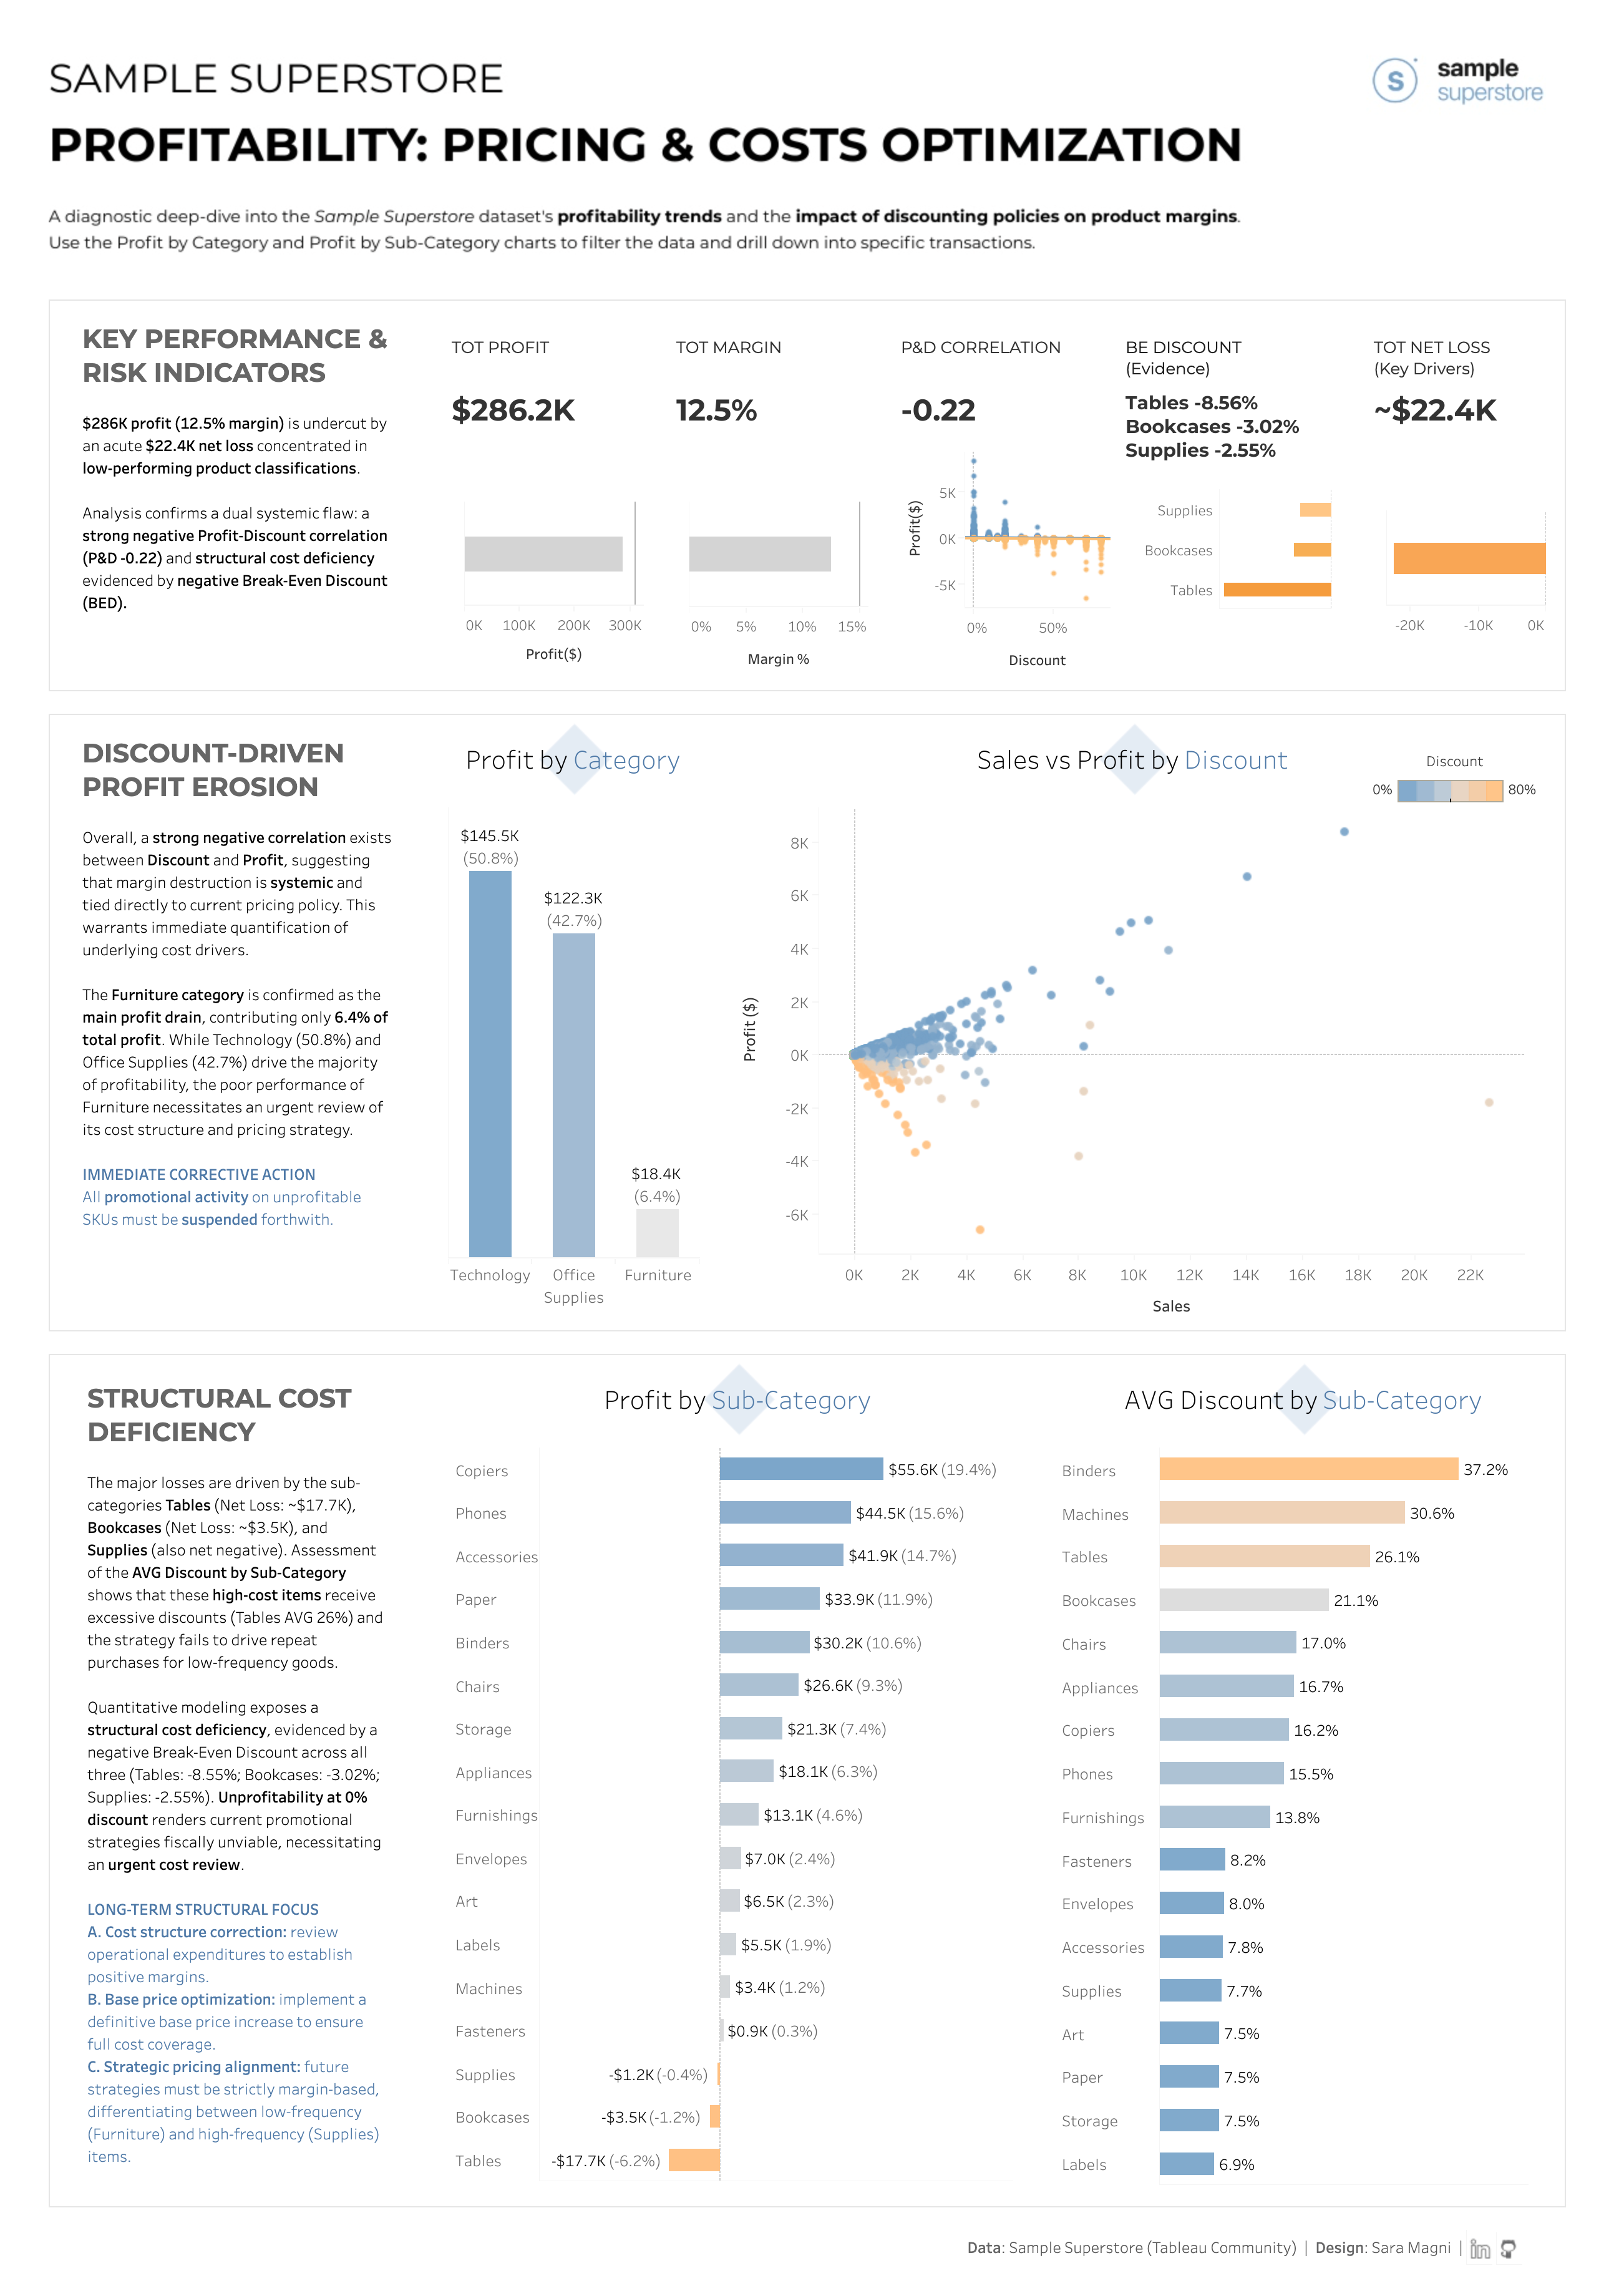

What the dashboard file says about the page in this screenshot:
{"tool":"tableau","page":{"name":"Dashboard","canvas":[1300,1850],"ordinal":0},"visuals":[{"type":"image","param":"Image/Main Header.png","box":[46,14,1208,204]},{"type":"blank","box":[46,218,1208,28]},{"type":"blank","box":[334,247,14,312]},{"type":"worksheet","title":"KPI: Total Profit","mark":"Automatic","box":[348,247,181,123]},{"type":"worksheet","title":"KPI: Total Margin","mark":"Automatic","box":[529,247,181,143.4]},{"type":"worksheet","title":"Profit vs Discount Correlation ","mark":"Automatic","box":[710,247,181,117]},{"type":"worksheet","title":"KPI: BE Evidence.","mark":"Automatic","box":[891,247,181,136]},{"type":"worksheet","title":"KPI: Total Net Loss","mark":"Automatic","box":[1072,247,181,149]},{"type":"text","box":[59,250,263,306]},{"type":"worksheet","title":"Profit vs Discount Correlation_Scatterplot","mark":"Circle","rows":["Profit"],"cols":["Discount"],"box":[710,364,181,195]},{"type":"worksheet","title":"KPI: Total Profit_Bullet Chart","mark":"Automatic","cols":["Profit"],"box":[348,390.1,181,168.9]},{"type":"worksheet","title":"KPI: Total Margin_Bullet Chart","mark":"Automatic","cols":["Calculation_5528168555541131264"],"box":[529,390.4,181,168.6]},{"type":"worksheet","title":"KPI: BE Evidence_Bar Chart","mark":"Bar","rows":["Sub-Category"],"cols":["Calculation_5729071320477540352"],"box":[891,395.6,181,95]},{"type":"worksheet","title":"KPI: Total Net Loss_Bar Chart","mark":"Bar","cols":["Calculation_1920644514421669888"],"box":[1072,396,181,145]},{"type":"blank","box":[46,560,1208,18]},{"type":"blank","box":[334,579,15,493]},{"type":"worksheet","title":"Header 1","mark":"Shape","rows":["Calculation_292522879398965249"],"box":[349,579,210,70]},{"type":"blank","box":[559,579,15,493]},{"type":"worksheet","title":"Header 3","mark":"Shape","rows":["Calculation_292522879398965249"],"box":[574,579,663,70]},{"type":"text","box":[59,582,263,487]},{"type":"legend","title":"Sales vs. Profit by Discount","param":"[federated.0rlbhmi186pqmv11zu80w1tev8dc].[sum:Discount:qk]","box":[1099,604,140,42]},{"type":"worksheet","title":"Profit by Category","mark":"Automatic","rows":["Profit"],"cols":["Category"],"box":[349,649,210,423]},{"type":"worksheet","title":"Sales vs. Profit by Discount","mark":"Circle","rows":["Profit"],"cols":["Sales"],"box":[574,649,663,423]},{"type":"blank","box":[46,1073,1208,18]},{"type":"blank","box":[334,1092,15,682]},{"type":"worksheet","title":"Header 2","mark":"Shape","rows":["Calculation_292522879398965249"],"box":[349,1092,474,70]},{"type":"blank","box":[823,1092,15,682]},{"type":"worksheet","title":"Header 4","mark":"Shape","rows":["Calculation_292522879398965249"],"box":[838,1092,411,70]},{"type":"text","box":[63,1099,255,668]},{"type":"worksheet","title":"Profit by Sub-Category","mark":"Automatic","rows":["Sub-Category"],"cols":["Profit"],"box":[349,1162,474,612]},{"type":"worksheet","title":"AVG Discount by Sub-Category","mark":"Automatic","rows":["Sub-Category"],"cols":["Discount"],"box":[838,1162,411,612]},{"type":"blank","box":[46,1775,1208,18]},{"type":"text","box":[56,1793,1124,28]},{"type":"worksheet","title":"LinkedIn","mark":"Shape","rows":["Calculation_3458483051382304770"],"cols":["Calculation_3458483051382390788"],"box":[1180,1793,26,28]},{"type":"worksheet","title":"GitHub","mark":"Shape","rows":["Calculation_3458483051382304770"],"cols":["Calculation_3458483051382390788"],"box":[1206,1793,24,28]}]}

Visuals, with their boxes in screenshot pixels (x1, y1, x2, y2), scaled from the page's 1300x1850 canvas onto the 1614x2296 screenshot:
image: [x1=57, y1=17, x2=1557, y2=271]
blank: [x1=57, y1=271, x2=1557, y2=305]
blank: [x1=415, y1=306, x2=432, y2=694]
"KPI: Total Profit" worksheet: [x1=432, y1=306, x2=657, y2=459]
"KPI: Total Margin" worksheet: [x1=657, y1=306, x2=882, y2=485]
"Profit vs Discount Correlation " worksheet: [x1=882, y1=306, x2=1106, y2=452]
"KPI: BE Evidence." worksheet: [x1=1106, y1=306, x2=1331, y2=475]
"KPI: Total Net Loss" worksheet: [x1=1331, y1=306, x2=1555, y2=492]
text: [x1=73, y1=310, x2=400, y2=690]
"Profit vs Discount Correlation_Scatterplot" worksheet (Circle marks): [x1=882, y1=452, x2=1106, y2=694]
"KPI: Total Profit_Bullet Chart" worksheet: [x1=432, y1=484, x2=657, y2=694]
"KPI: Total Margin_Bullet Chart" worksheet: [x1=657, y1=485, x2=882, y2=694]
"KPI: BE Evidence_Bar Chart" worksheet (Bar marks): [x1=1106, y1=491, x2=1331, y2=609]
"KPI: Total Net Loss_Bar Chart" worksheet (Bar marks): [x1=1331, y1=492, x2=1555, y2=671]
blank: [x1=57, y1=695, x2=1557, y2=717]
blank: [x1=415, y1=719, x2=434, y2=1330]
"Header 1" worksheet (Shape marks): [x1=434, y1=719, x2=694, y2=805]
blank: [x1=694, y1=719, x2=712, y2=1330]
"Header 3" worksheet (Shape marks): [x1=712, y1=719, x2=1536, y2=805]
text: [x1=73, y1=722, x2=400, y2=1326]
"Sales vs. Profit by Discount" legend: [x1=1364, y1=749, x2=1539, y2=802]
"Profit by Category" worksheet: [x1=434, y1=805, x2=694, y2=1330]
"Sales vs. Profit by Discount" worksheet (Circle marks): [x1=712, y1=805, x2=1536, y2=1330]
blank: [x1=57, y1=1331, x2=1557, y2=1354]
blank: [x1=415, y1=1355, x2=434, y2=2202]
"Header 2" worksheet (Shape marks): [x1=434, y1=1355, x2=1022, y2=1442]
blank: [x1=1022, y1=1355, x2=1041, y2=2202]
"Header 4" worksheet (Shape marks): [x1=1041, y1=1355, x2=1551, y2=1442]
text: [x1=78, y1=1364, x2=395, y2=2193]
"Profit by Sub-Category" worksheet: [x1=434, y1=1442, x2=1022, y2=2202]
"AVG Discount by Sub-Category" worksheet: [x1=1041, y1=1442, x2=1551, y2=2202]
blank: [x1=57, y1=2203, x2=1557, y2=2225]
text: [x1=69, y1=2225, x2=1465, y2=2260]
"LinkedIn" worksheet (Shape marks): [x1=1465, y1=2225, x2=1497, y2=2260]
"GitHub" worksheet (Shape marks): [x1=1497, y1=2225, x2=1527, y2=2260]
